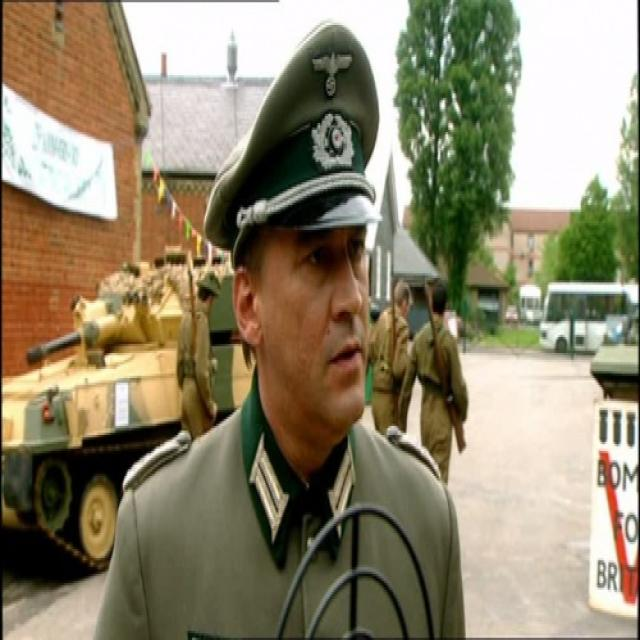rifle: (423, 276, 469, 452)
